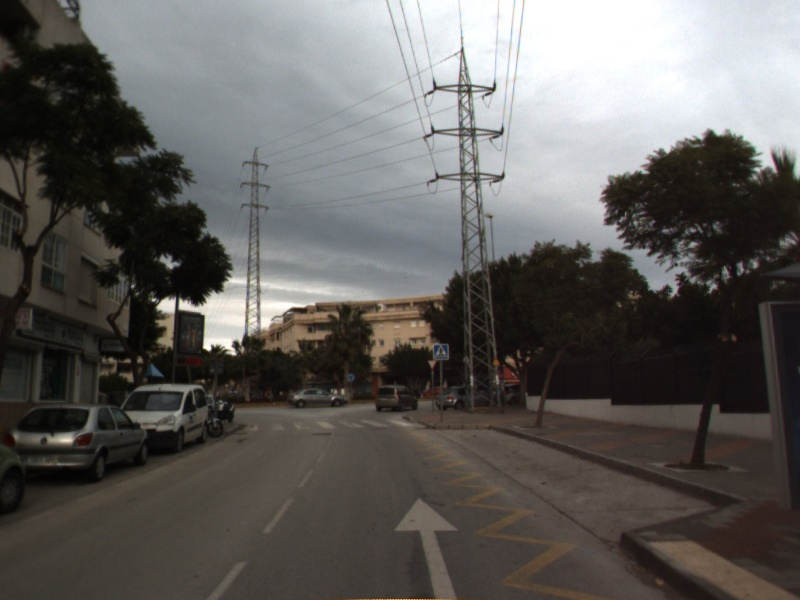STRAIGHT: (390, 494, 463, 600)
